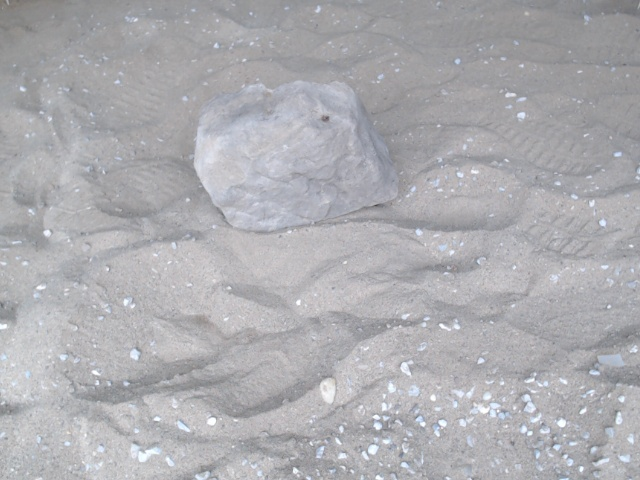rock: (185, 70, 405, 241)
